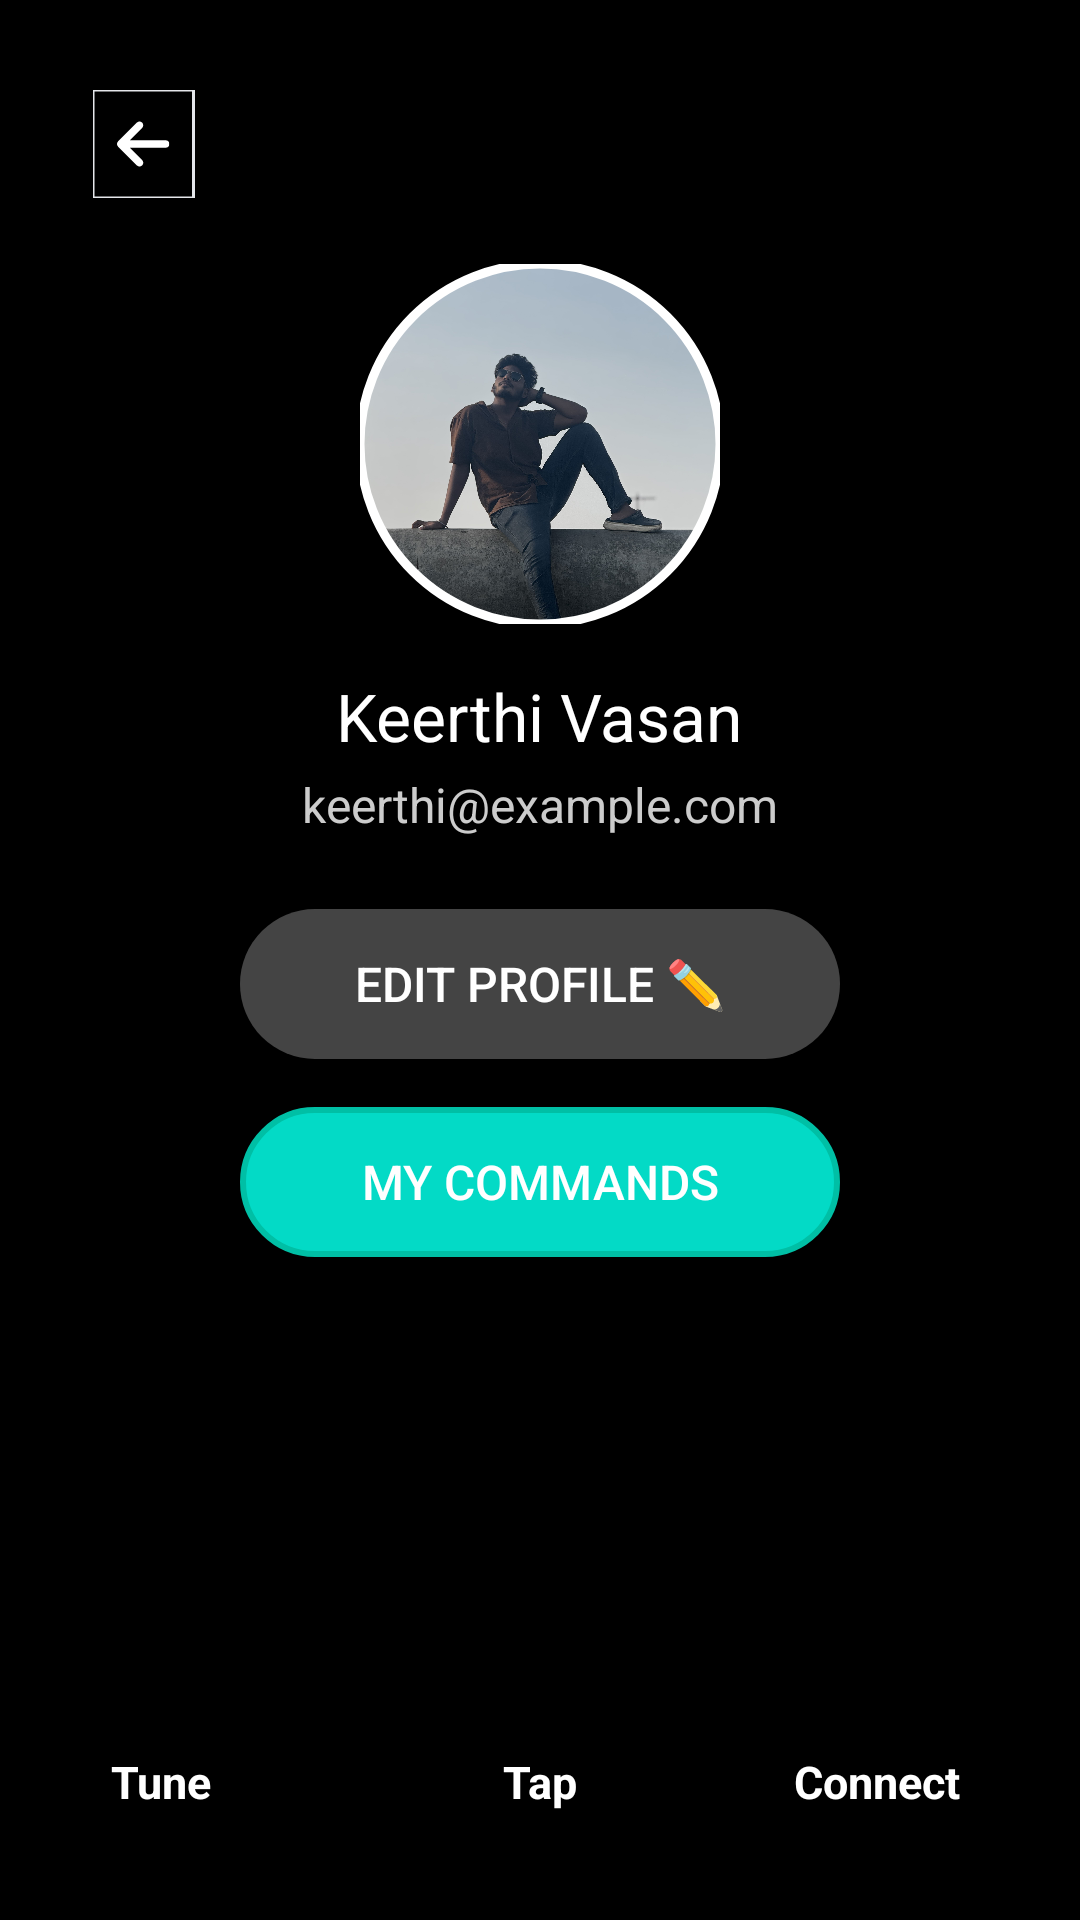

Icons on this 1080×1920 Android screen, each with its box as (x1, y1, x2, y2):
Back Button: (93, 90, 195, 198)
Profile Image: (360, 264, 720, 624)
